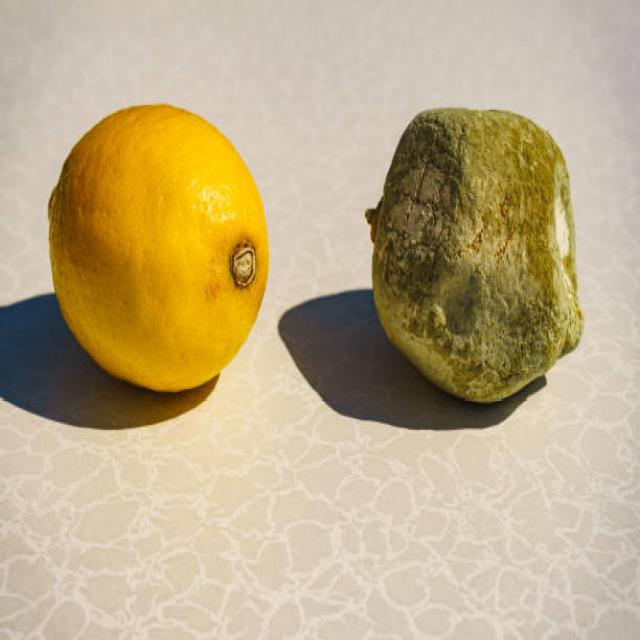Ripe: (45, 98, 269, 395)
Rotten: (363, 106, 581, 397)
